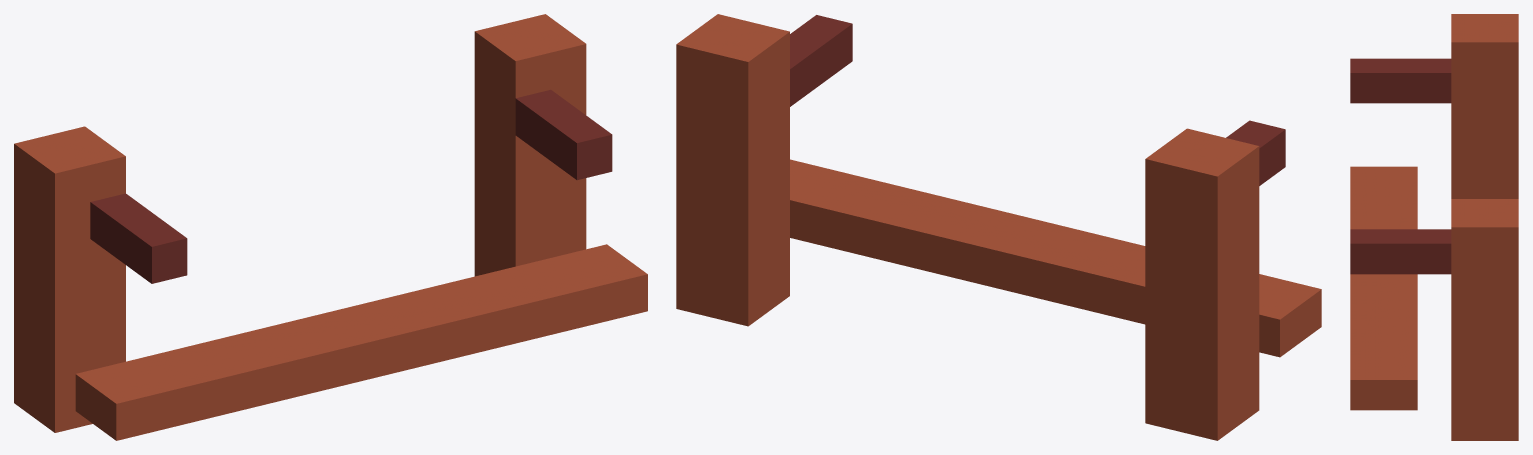
Rendered from bridge_a_ending.obj.
The picture shows the model from 3 angles, left to right: view 1: azimuth 30°, elevation 25°; view 2: azimuth 150°, elevation 25°; view 3: azimuth 270°, elevation 25°; orthographic projection. The views are drawn at different scales.
Bounding box in the file's own units: 1.5 × 0.7 × 0.5.
Materials: 1 (1 with a texture image).
